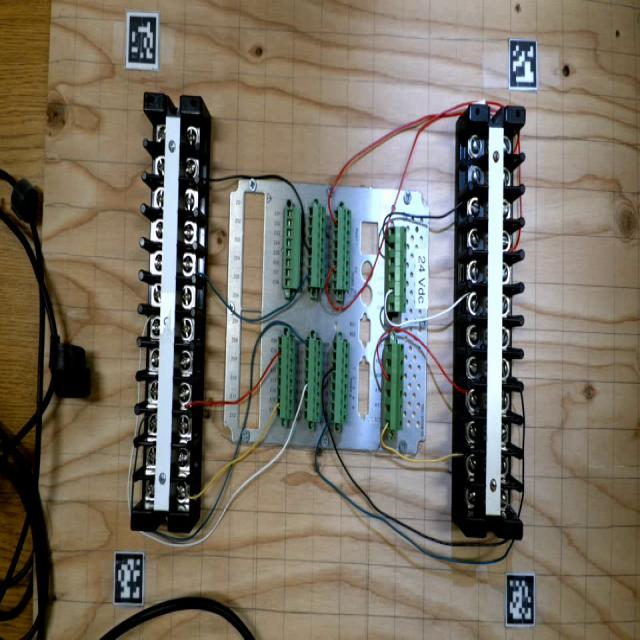Flathead_Block: (467, 104, 526, 539)
Phillips_Block: (131, 93, 202, 533)
Terminal_1: (383, 343, 404, 430), (387, 227, 407, 312)
Terminal_2: (306, 205, 326, 288), (332, 208, 352, 291), (276, 336, 296, 418), (330, 341, 350, 423), (304, 339, 323, 423)
